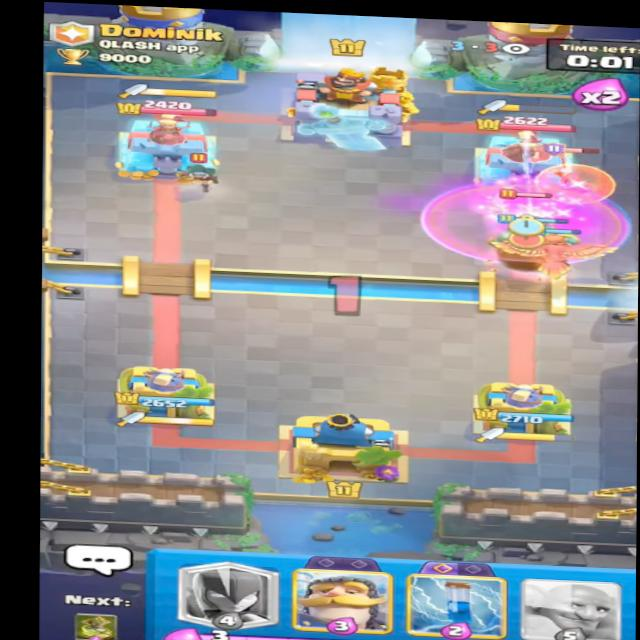bandit: (167, 154, 221, 195)
evo-wizard: (532, 141, 617, 205)
